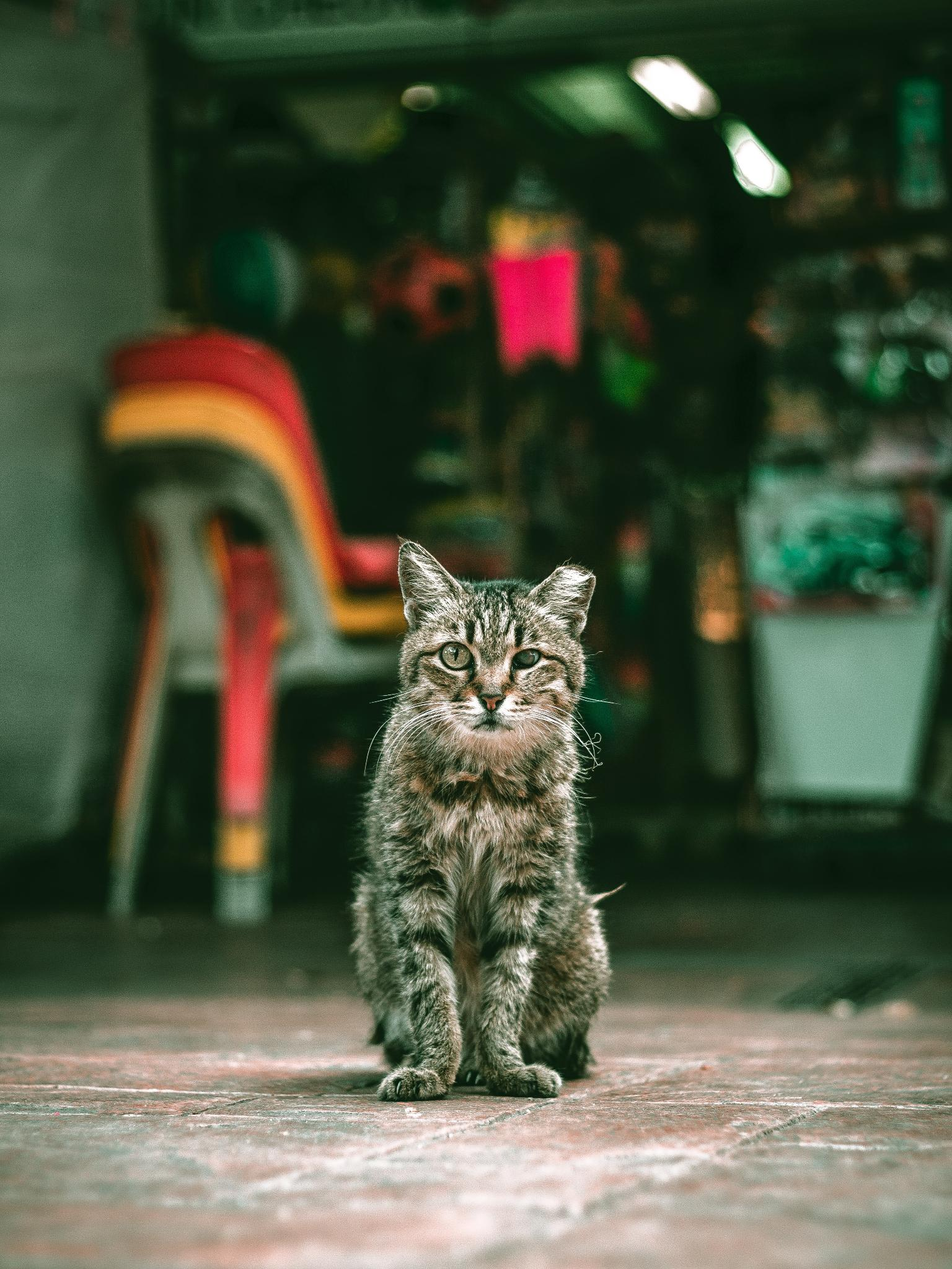cat: (348, 536, 624, 1102)
